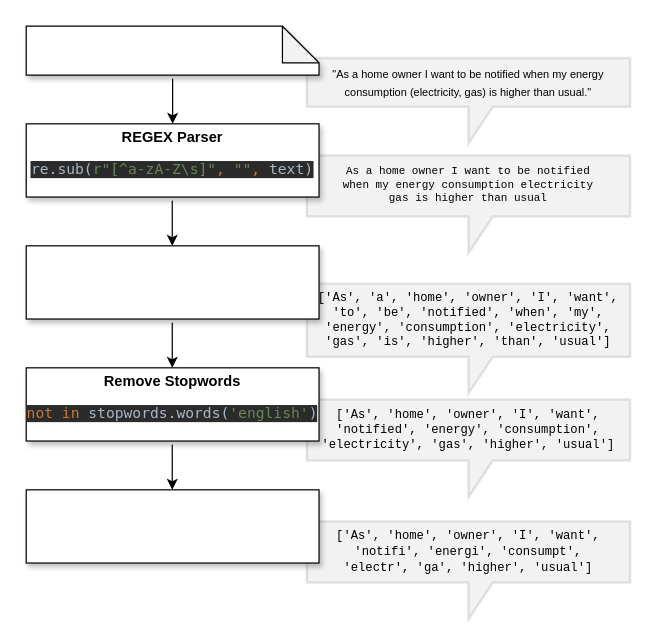
Some shapes in this 653 by 642 pixel diagram are drawn without their labels. The centre of each missing label's shape, as x and y in pixels:
Requirement Sentence: [173,52]
Stemming porter_stemmer.stem(lexicalWord): [173,528]
Tokenizer nltk.word_tokenize( cleaned_text): [173,284]
